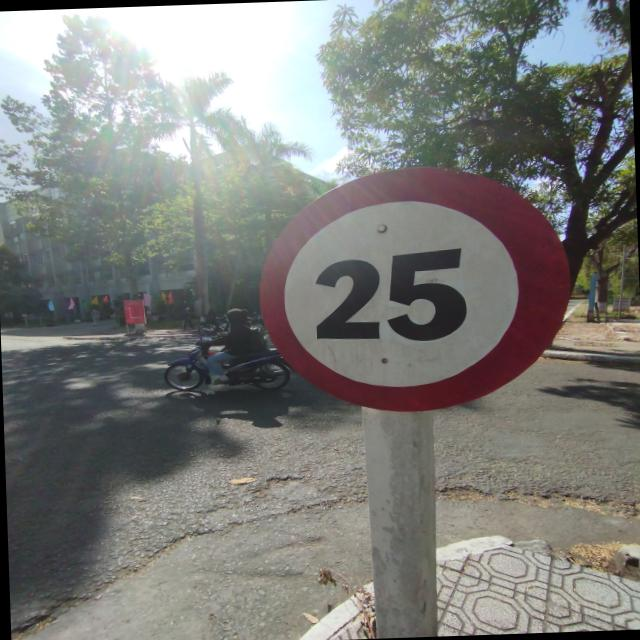Tre_Em: (249, 160, 579, 419)
